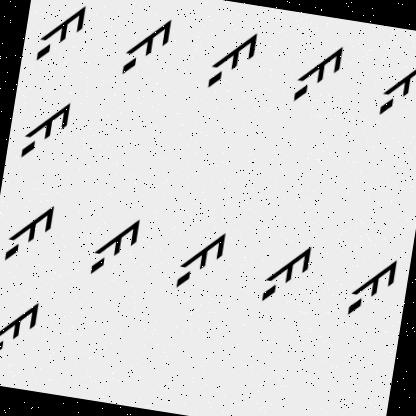ku: (70, 204, 146, 286), (164, 213, 232, 302), (250, 230, 318, 314), (336, 250, 402, 322), (196, 26, 260, 100), (0, 287, 59, 366), (284, 38, 346, 113), (12, 92, 76, 163), (32, 0, 97, 69), (119, 8, 178, 81), (1, 196, 60, 268), (365, 48, 416, 121)
